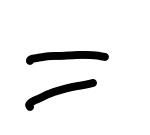eqv: (25, 51, 109, 111)
